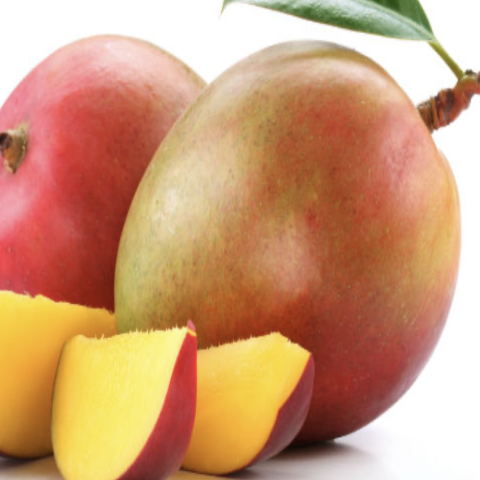mango: (94, 37, 479, 449)
